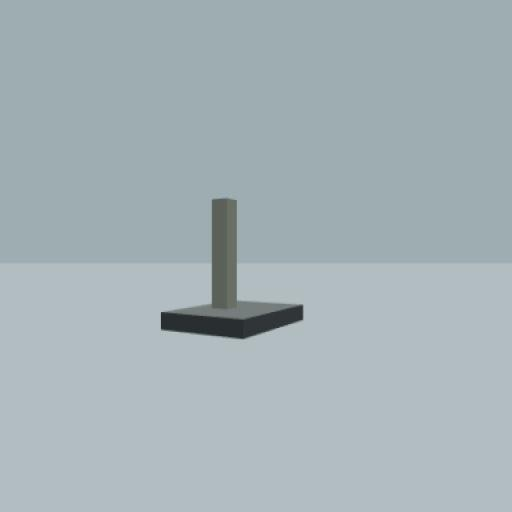platform: (160, 193, 304, 340)
